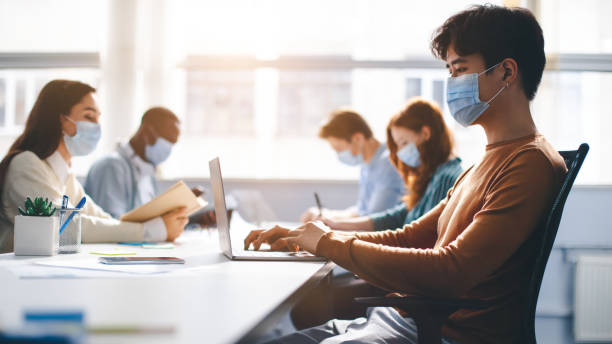with mask: (434, 30, 519, 131), (432, 28, 517, 129), (42, 81, 113, 157), (387, 97, 458, 173), (314, 100, 381, 172), (127, 110, 187, 165)
